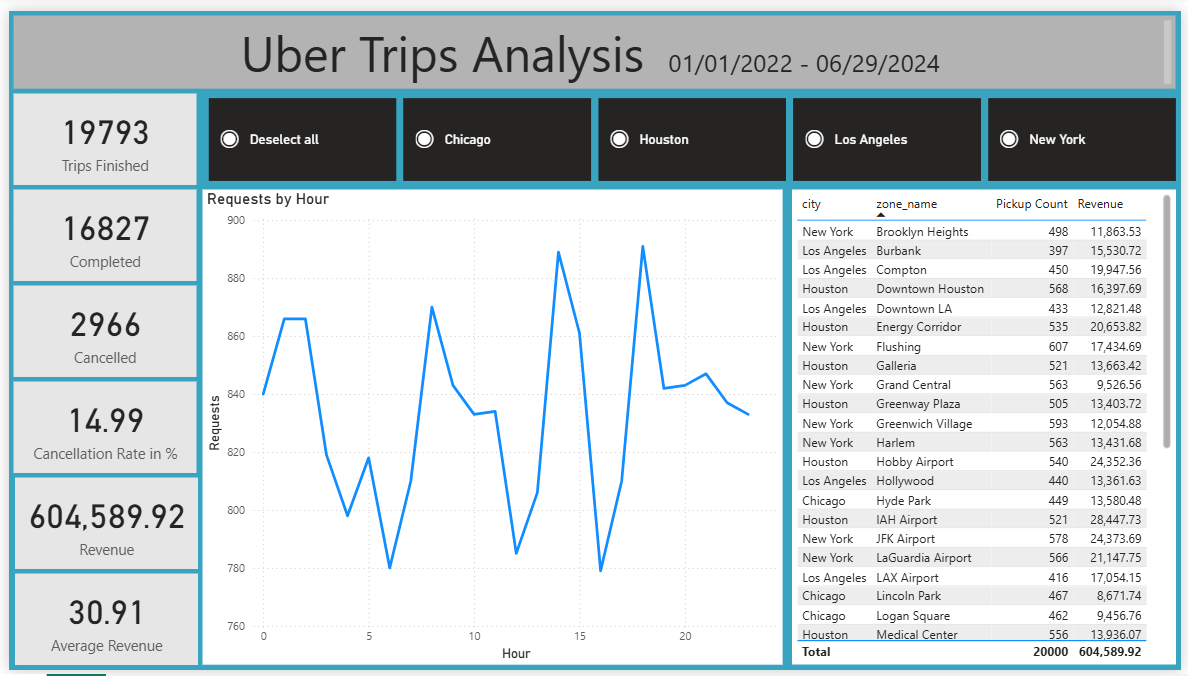

Layout of this report page (visuals, bound fields, positions):
{"tool":"powerbi","page":{"name":"Page 1","canvas":[1280,720],"ordinal":0},"visuals":[{"type":"card","fields":{"Values":["Table.NumberOfTrips"]},"box":[5,90,200,100],"z":0},{"type":"card","fields":{"Values":["Table.TripsFinished"]},"box":[5,195,200,100],"z":1000},{"type":"card","fields":{"Values":["Table.TripsCancelled"]},"box":[5,300,200,100],"z":2000},{"type":"card","fields":{"Values":["Table.CancellationRate"]},"box":[5,405,200,100],"z":3000},{"type":"card","fields":{"Values":["Table.Revenue"]},"box":[5.8,510,200,100],"z":4000},{"type":"card","fields":{"Values":["Table.AvgRevenue"]},"box":[5.8,615,200,100],"z":5000},{"type":"textbox","box":[5,5,1270,80],"z":6000},{"type":"advancedSlicerVisual","fields":{"Values":["locations.city"]},"box":[212.3,90.4,1067.1,100],"z":7000},{"type":"lineChart","fields":{"Category":["trips.Hour"],"Y":["Table.Requests"]},"box":[212.2,195.1,634.1,519.5],"z":8000},{"type":"tableEx","fields":{"Values":["locations.city","locations.zone_name","Table.Pickup Count","Table.Revenue"]},"box":[855,195,419,518.6],"z":9000}]}

Visuals, with their boxes in screenshot pixels (x1, y1, x2, y2), scaled from the page's 1280x720 canvas onto the 1188x676 screenshot:
card - Table.NumberOfTrips: [5, 84, 190, 178]
card - Table.TripsFinished: [5, 183, 190, 277]
card - Table.TripsCancelled: [5, 282, 190, 376]
card - Table.CancellationRate: [5, 380, 190, 474]
card - Table.Revenue: [5, 479, 191, 573]
card - Table.AvgRevenue: [5, 577, 191, 671]
textbox: [5, 5, 1183, 80]
advancedSlicerVisual - locations.city: [197, 85, 1187, 179]
lineChart - trips.Hour x Table.Requests: [197, 183, 785, 671]
tableEx - locations.city x locations.zone_name: [794, 183, 1182, 670]
